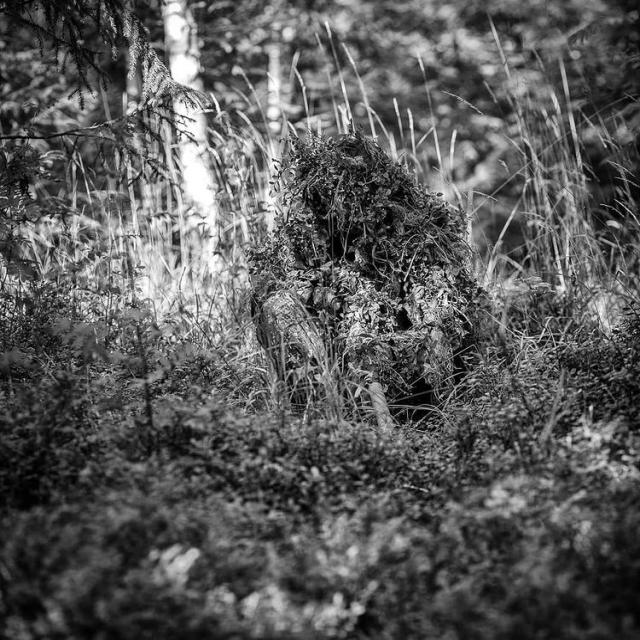Camouflage: (250, 141, 504, 434)
